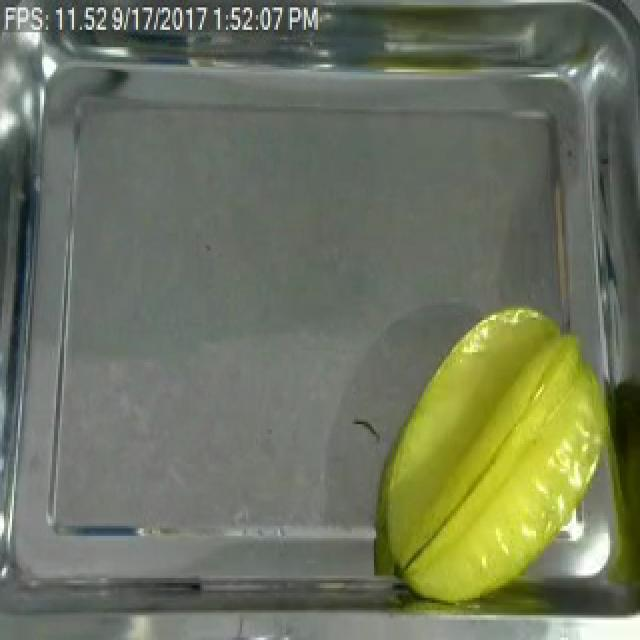fruit: (364, 292, 624, 618)
